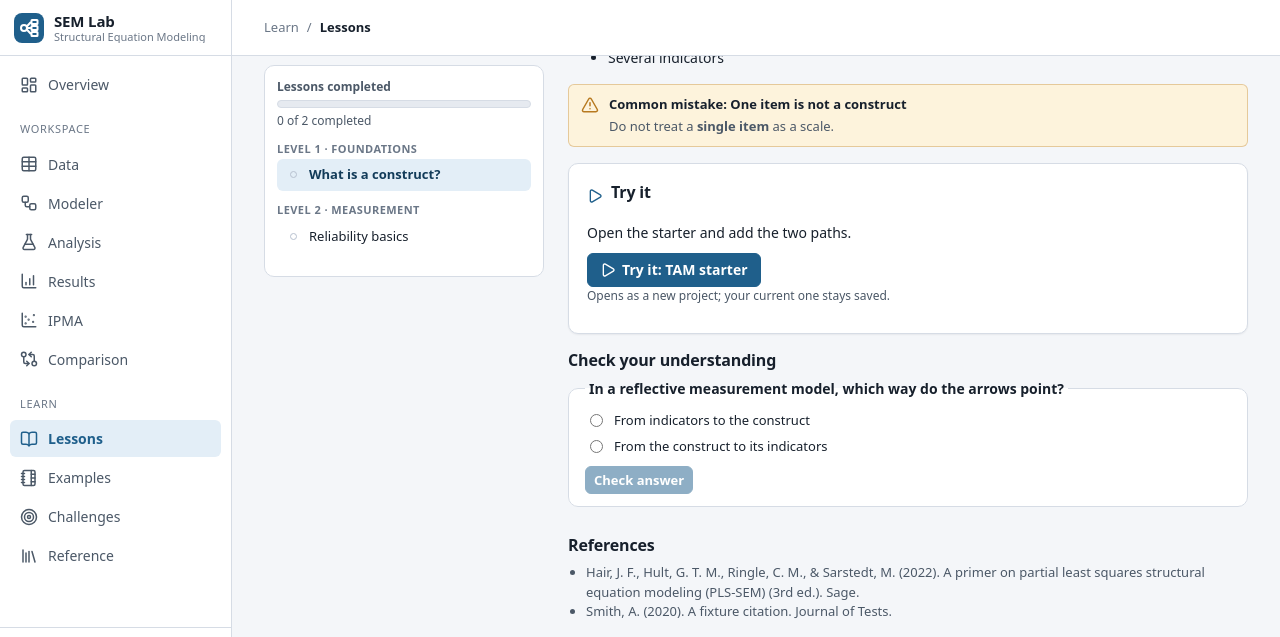
Scenario: Learn page › a wrong answer shows its own feedback, a right one completes the lesson, and it persists
The width and height of the screenshot is (1280, 637).
(page scrolled)
Click the radio button labelled "From indicators to the construct" at (596, 421), box [590,414,603,427]
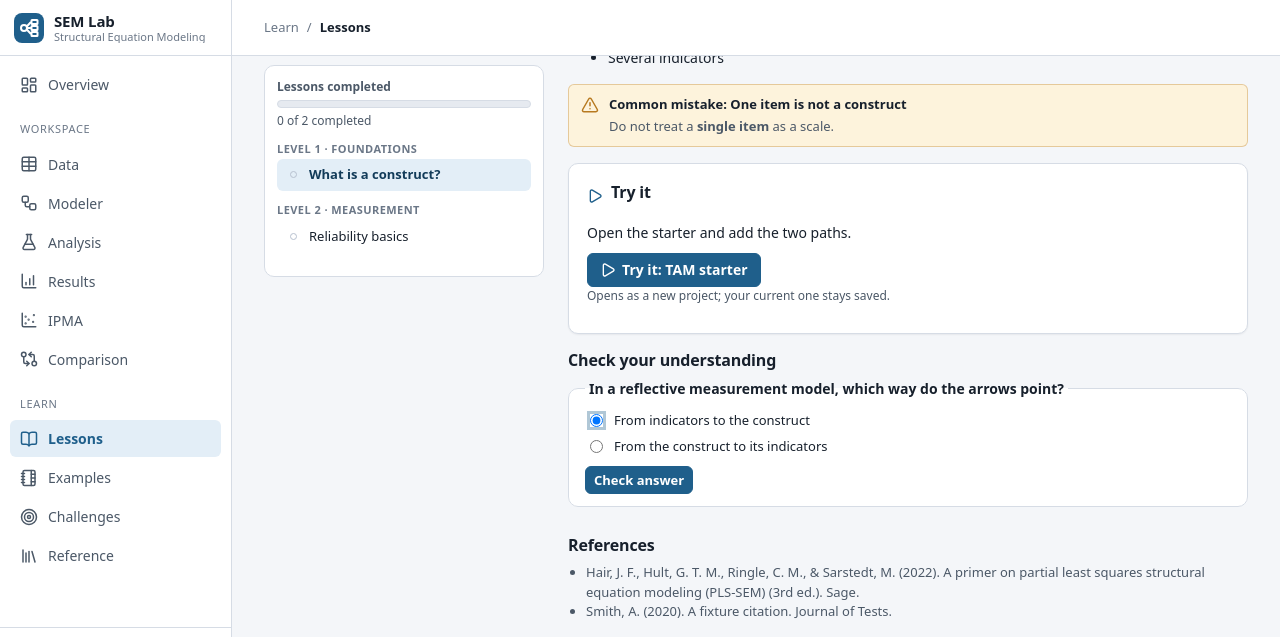
Expected: the button "Check answer" is enabled
Click the button "Check answer" at (639, 480), box [585,466,693,494]
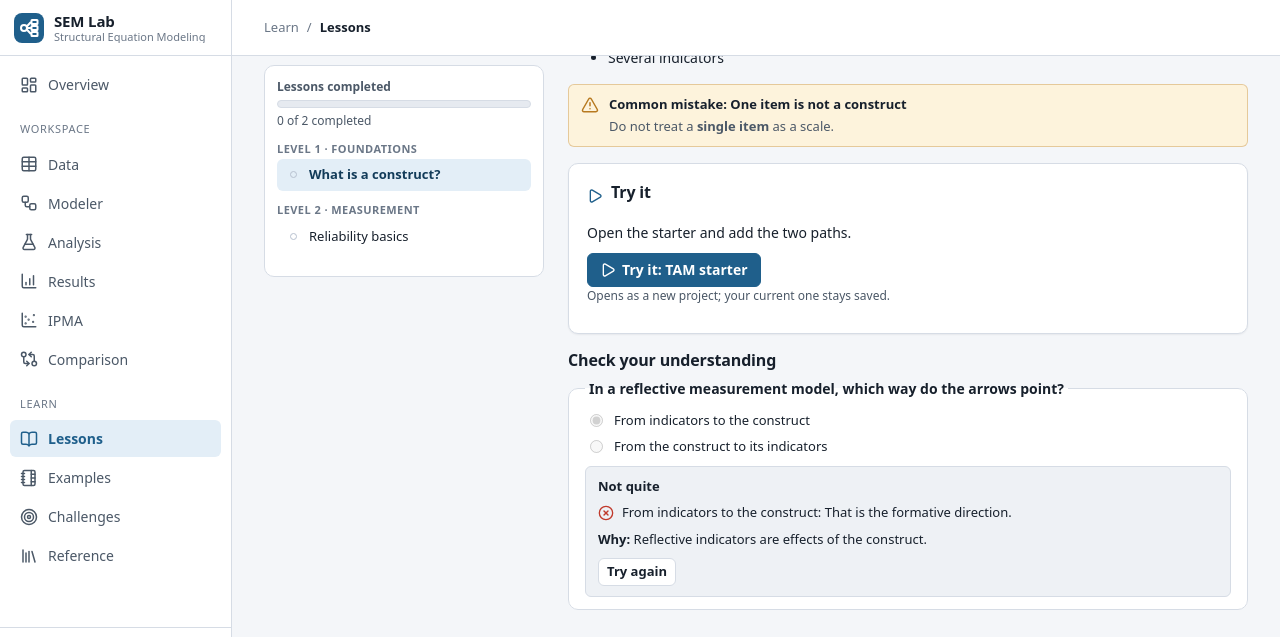
Expected: the text "Not quite" is shown, [598,477,660,495]
Expected: the text "That is the formative direction" is shown, [622,503,1012,521]
Expected: the text "Reflective indicators are effects of the construct." is shown, [634,530,927,548]
Click the button "Try again" at (637, 572), box [598,558,676,586]
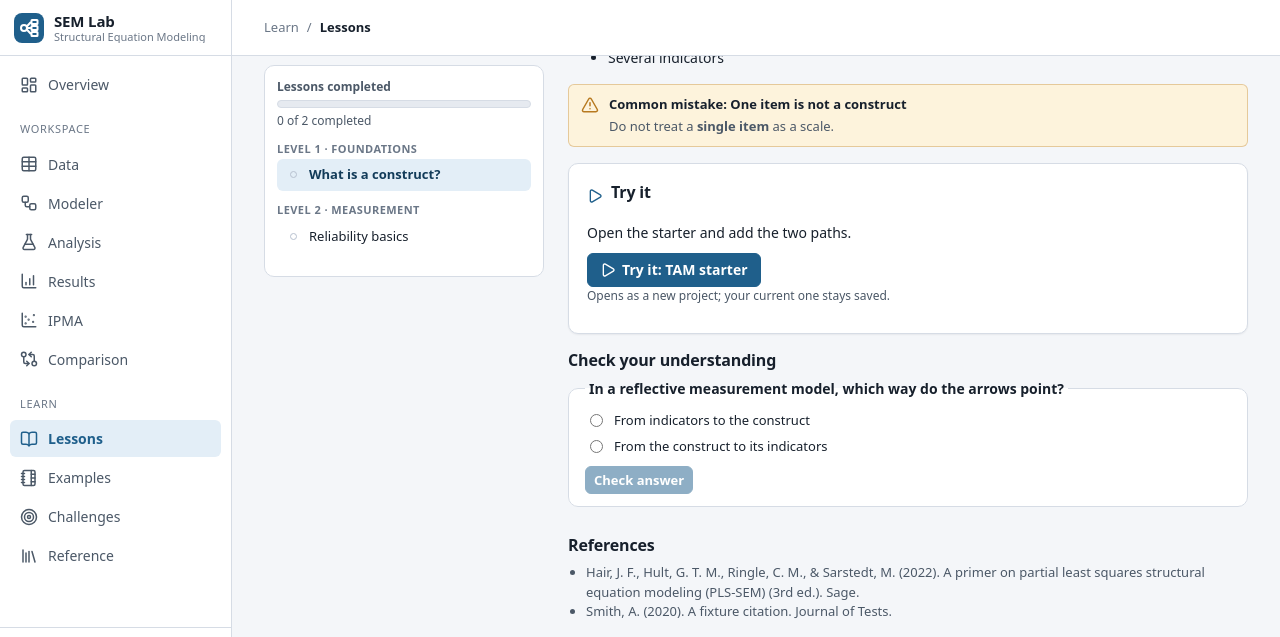
Click the radio button labelled "From the construct to its indicators" at (596, 446), box [590,440,603,453]
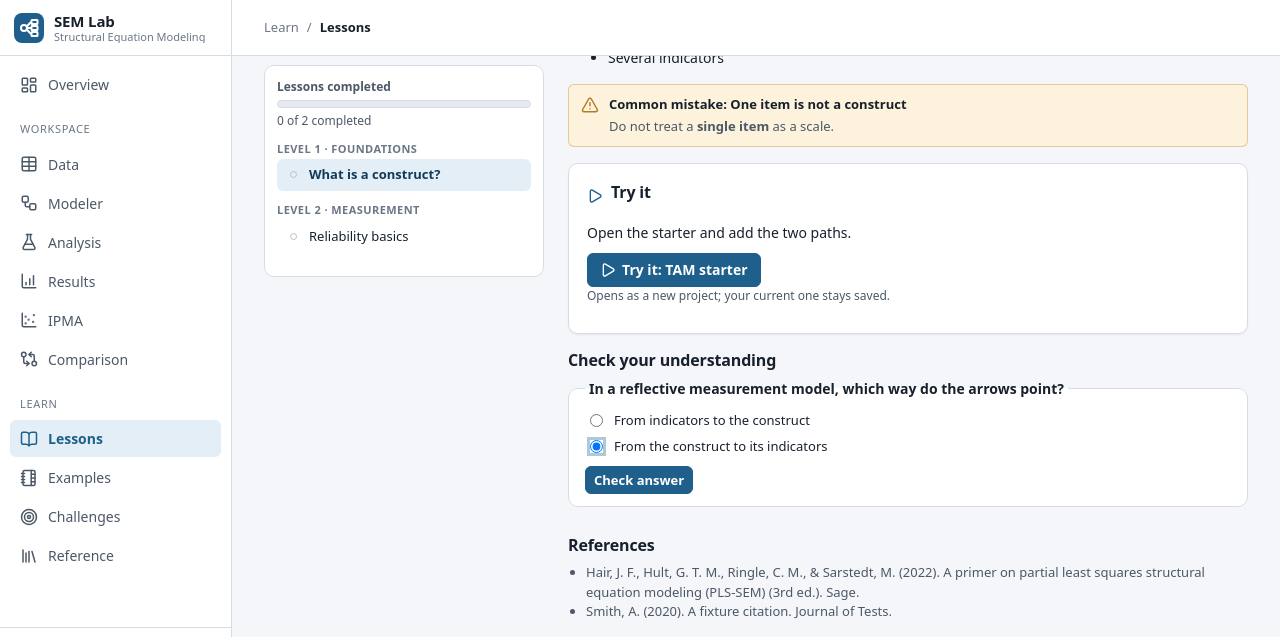
Expected: the button "Check answer" is enabled
Click the button "Check answer" at (639, 480), box [585,466,693,494]
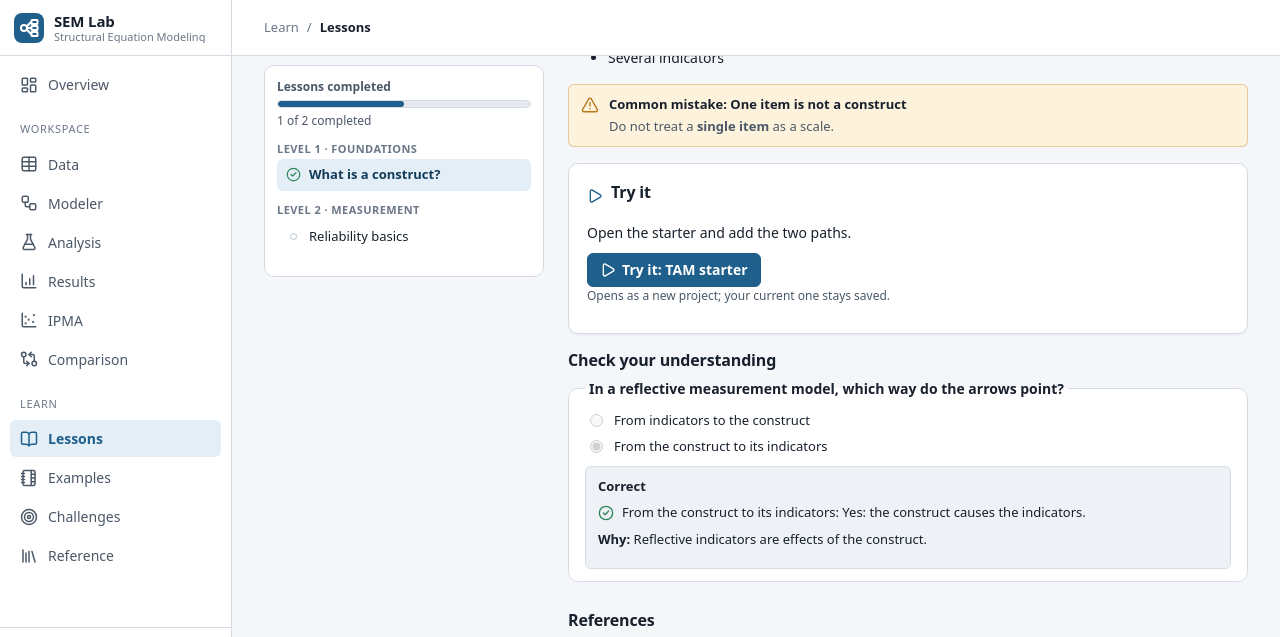
Expected: the text "Correct" is shown, [598,477,646,495]
